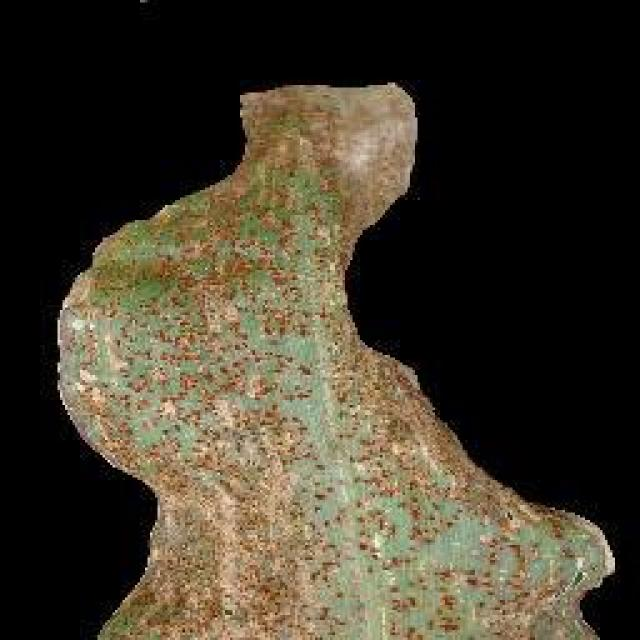Corn Common Rust: (128, 132, 462, 615)
